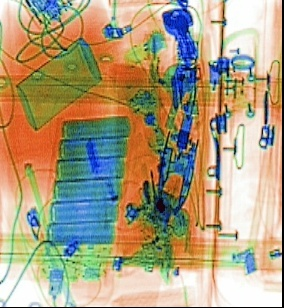powerbank: (39, 113, 133, 281)
